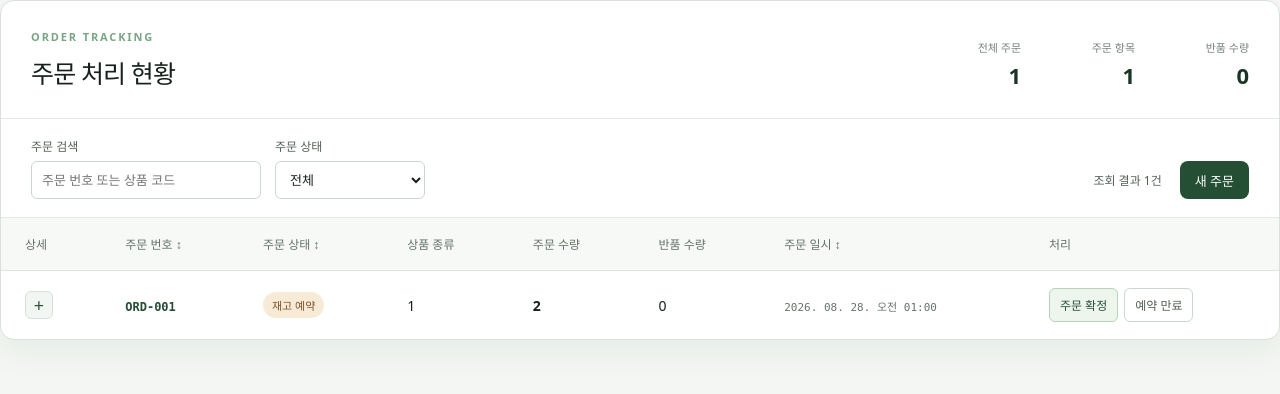
Scenario: OrderPage › 재고 예약 주문을 확인 후 만료하고 재고 관련 목록을 갱신한다
Check: the button with aria-label "ORD-001 주문 확정" is shown, box top-left (1049, 288), bottom-right (1118, 322)
Click the button with aria-label "ORD-001 예약 만료" at (1159, 305), box top-left (1124, 288), bottom-right (1194, 322)
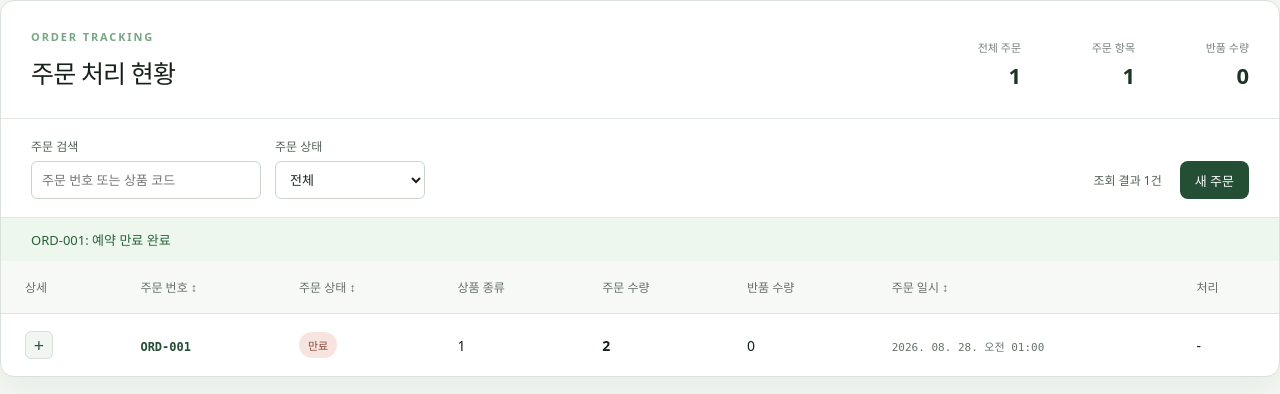
Check: the text "ORD-001: 예약 만료 완료" is shown, box top-left (1, 218), bottom-right (1279, 261)
Check: the text "만료" is shown, box top-left (299, 332), bottom-right (337, 358)
